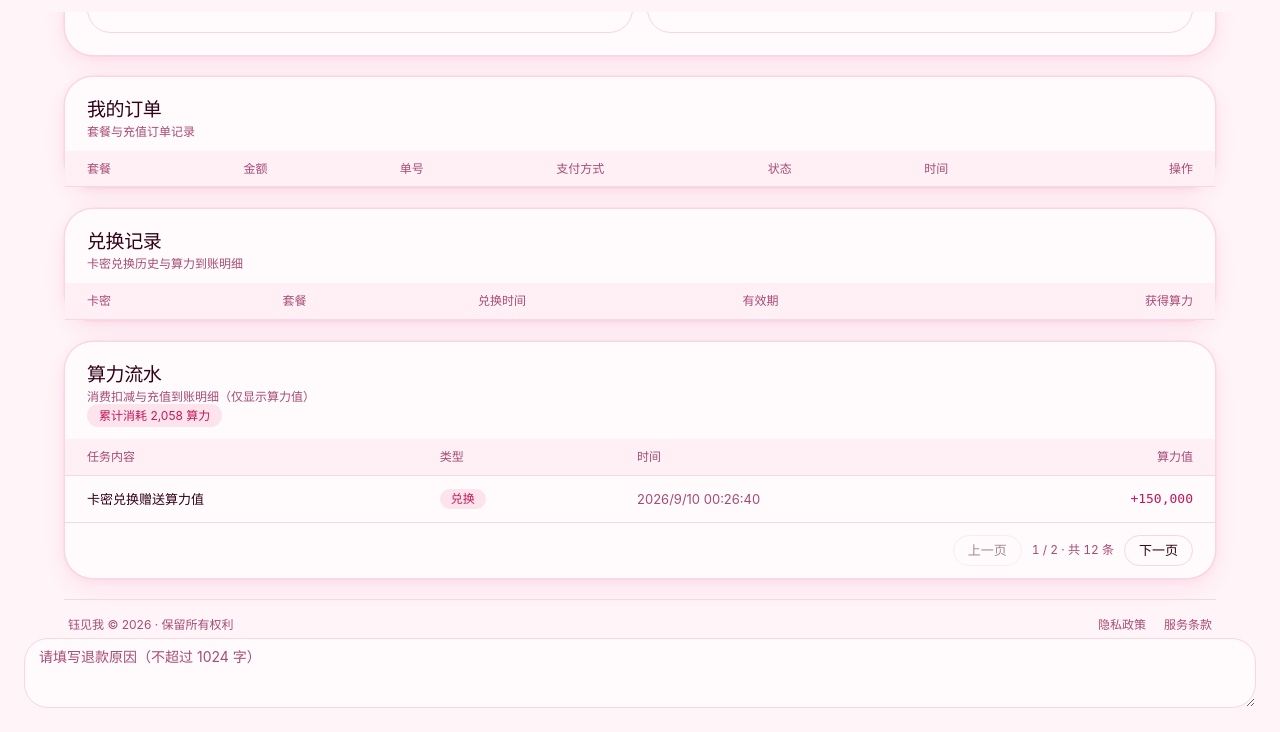
Scenario: MembershipView (真实接口) › 算力流水翻页触发下一页请求
Click the button "下一页" at (1158, 550), box x1=1124 y1=535 x2=1193 y2=566
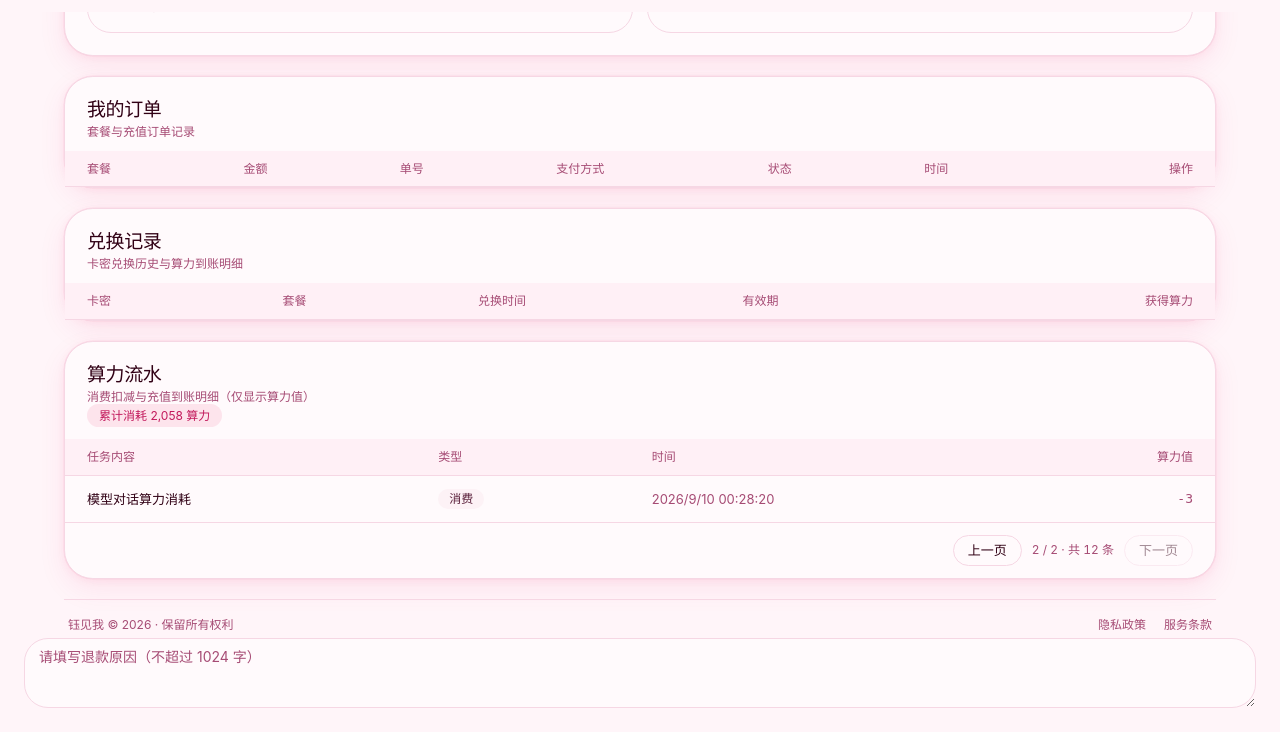
Expected: the text "模型对话算力消耗" is shown, x1=87 y1=490 x2=191 y2=506
